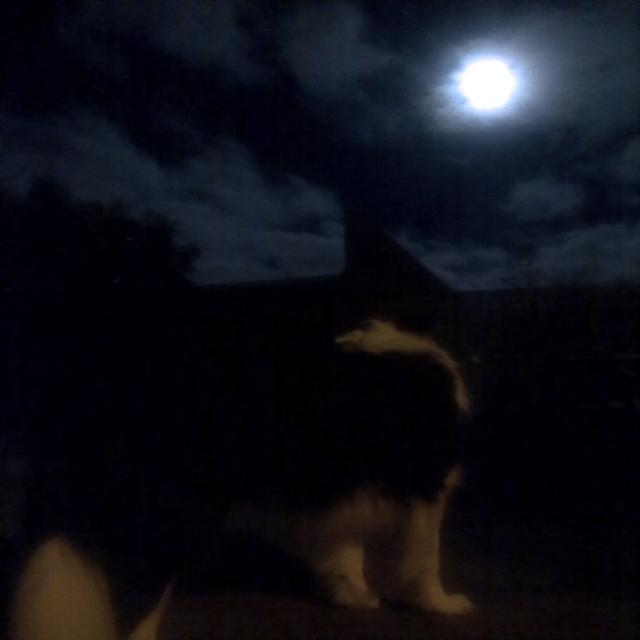Dog: (216, 262, 566, 630)
